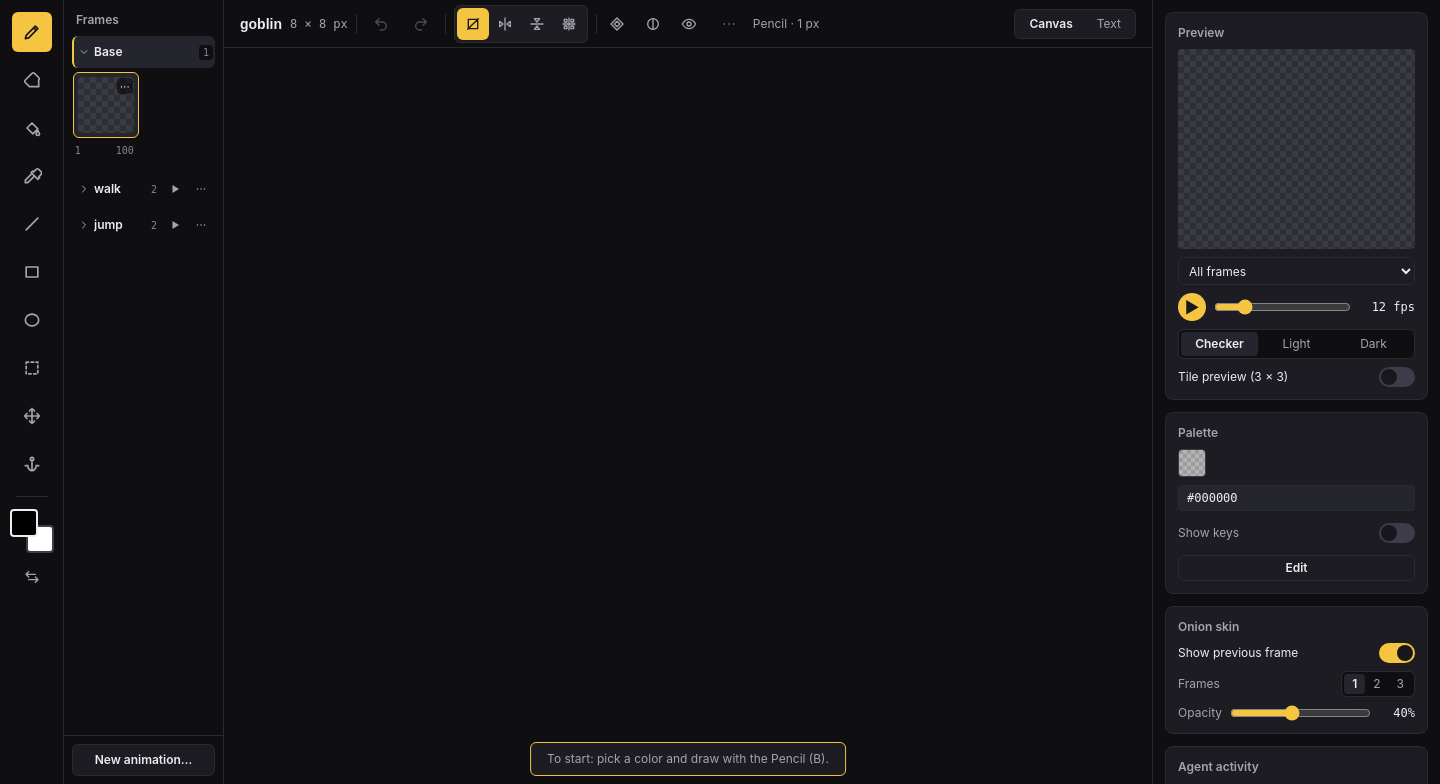
Scenario: The frames strip in groups › opens Base and goes back to All
This screenshot has width=1440, height=784.
Check: the element "walk" is shown, box [72,173,215,205]
Click the button with aria-label "Select jump" at (112, 225), box [78,213,145,237]
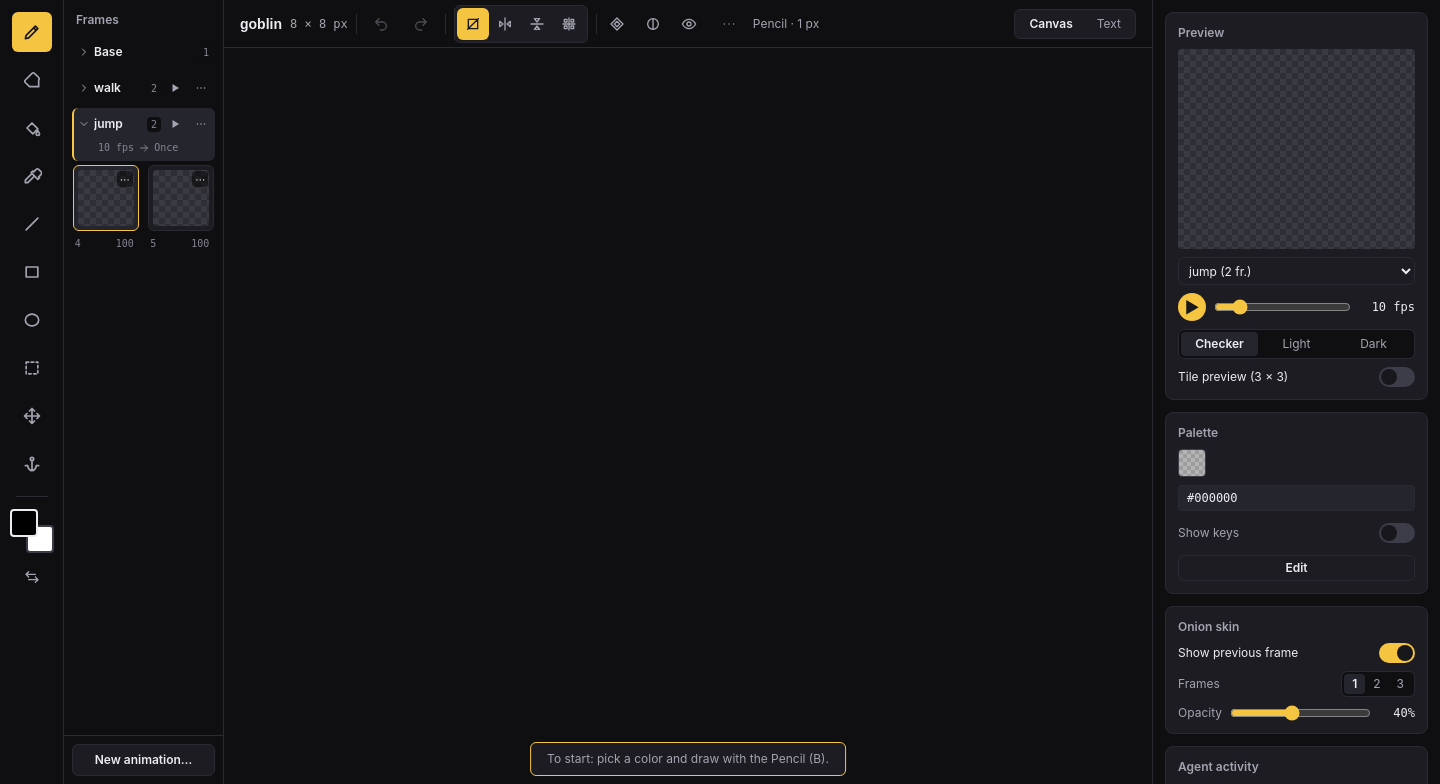
Check: the dropdown named "Animation" shows "jump (2 fr.)", box [1178,257,1415,285]
Click the button "Base" at (138, 52), box [78,40,197,64]
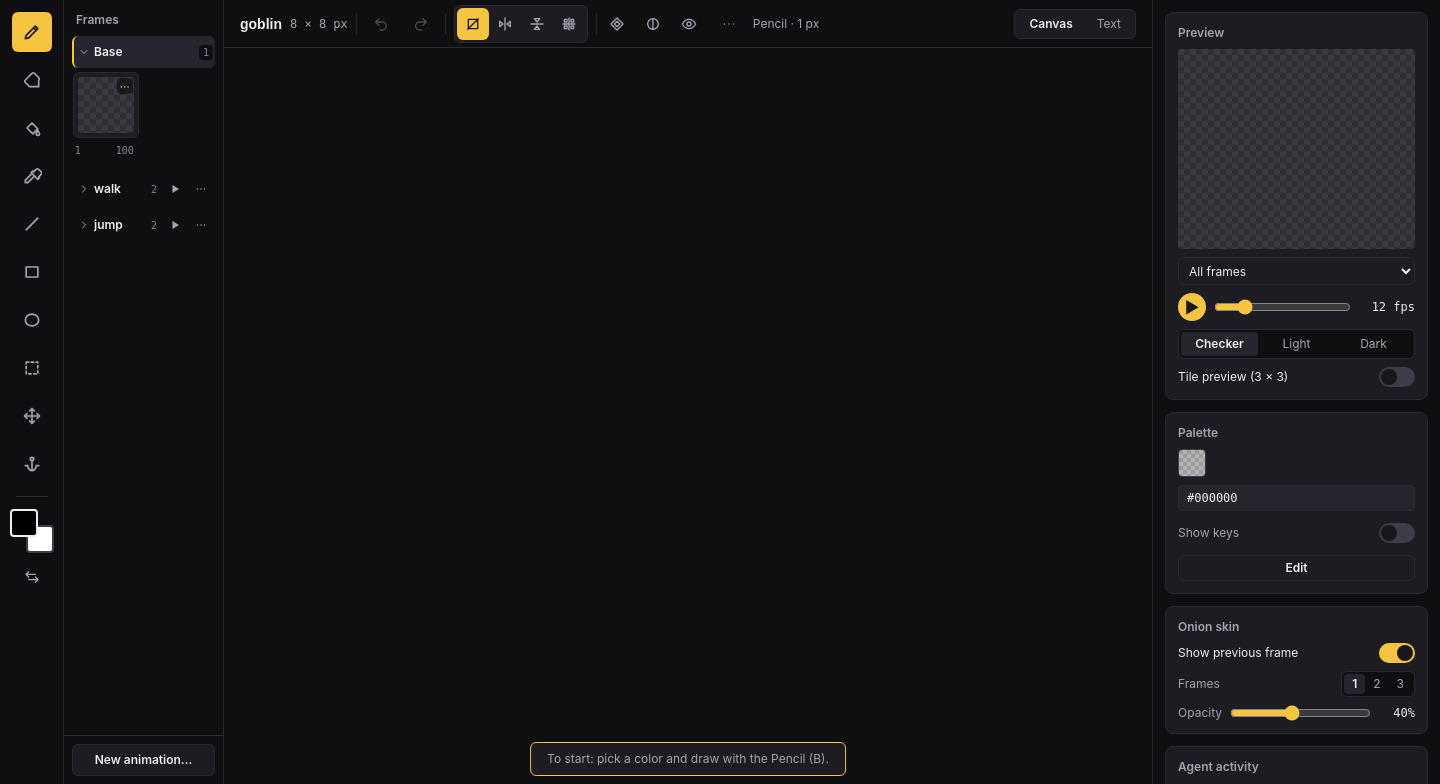
Check: the dropdown named "Animation" shows "All frames", box [1178,257,1415,285]
